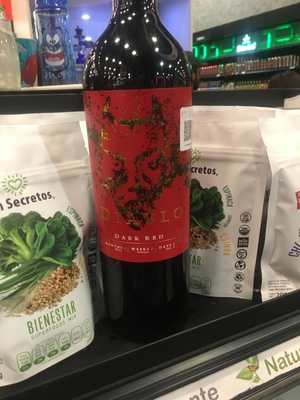diablo dark red: (85, 13, 219, 331)
